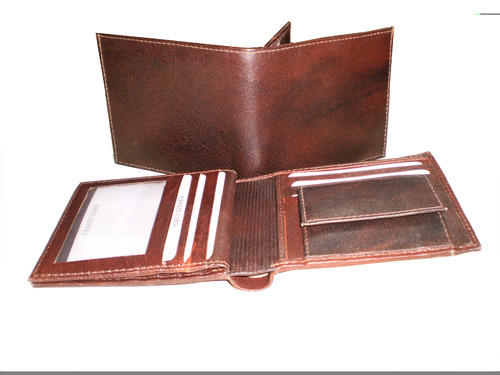monedero: (26, 150, 485, 294), (94, 18, 398, 179)
